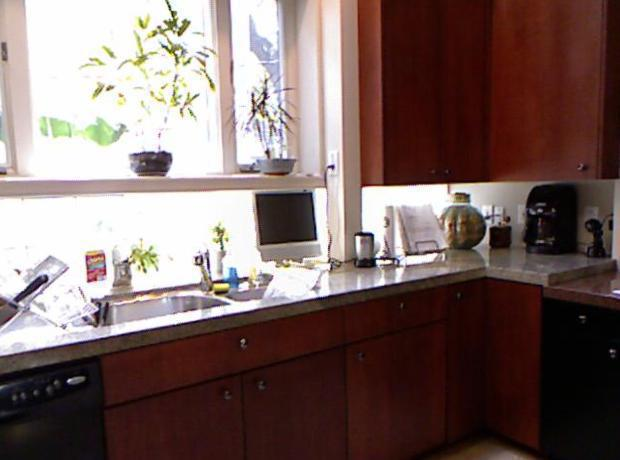Lavaplatos: (73, 246, 235, 335)
